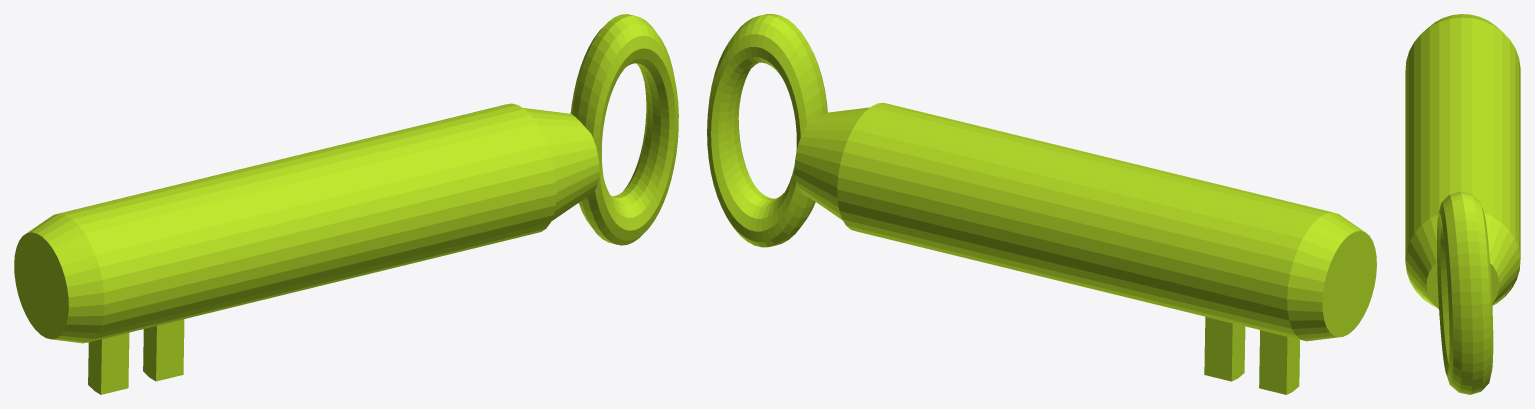
File: klucz zółty.fbx
3 renders of one model, left to right at view 1: azimuth 30°, elevation 25°; view 2: azimuth 150°, elevation 25°; view 3: azimuth 270°, elevation 25°, orthographic. The views are drawn at different scales.
Parts seen in each view (by area): view 1: key.002; view 2: key.002; view 3: key.002.
Boxes of the visible parts, x1=… form: key.002: x1=14, y1=14, x2=678, y2=394; key.002: x1=707, y1=14, x2=1376, y2=394; key.002: x1=1405, y1=14, x2=1520, y2=394.
Bounding box in the file's own units: 11.08 × 4.11 × 2.
